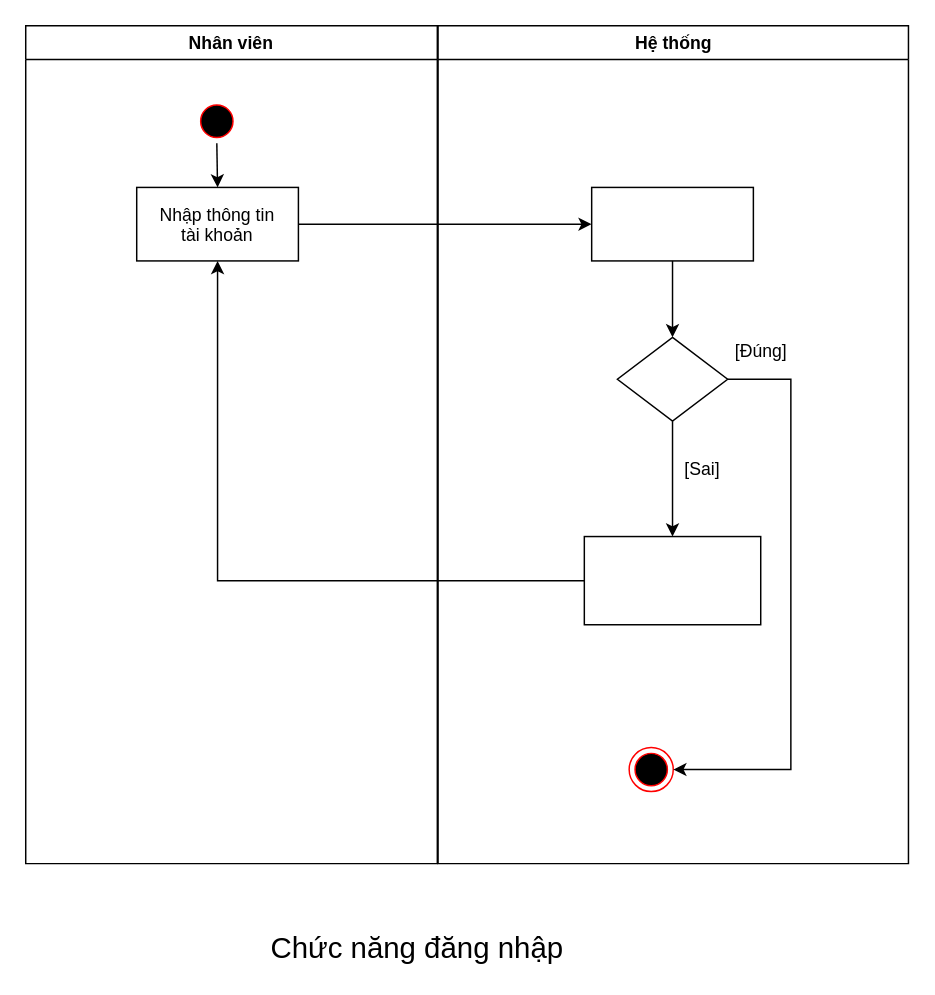
This 935x995 diagram has some shape labels left out. The shapes that lost their labels are listed below. From the top down, each one's centre as x and y in pixels, then its label:
At pixel 671 223: "Kiểm tra thông tin tài khoản".
At pixel 672 580: "Yêu cầu nhập lại".
